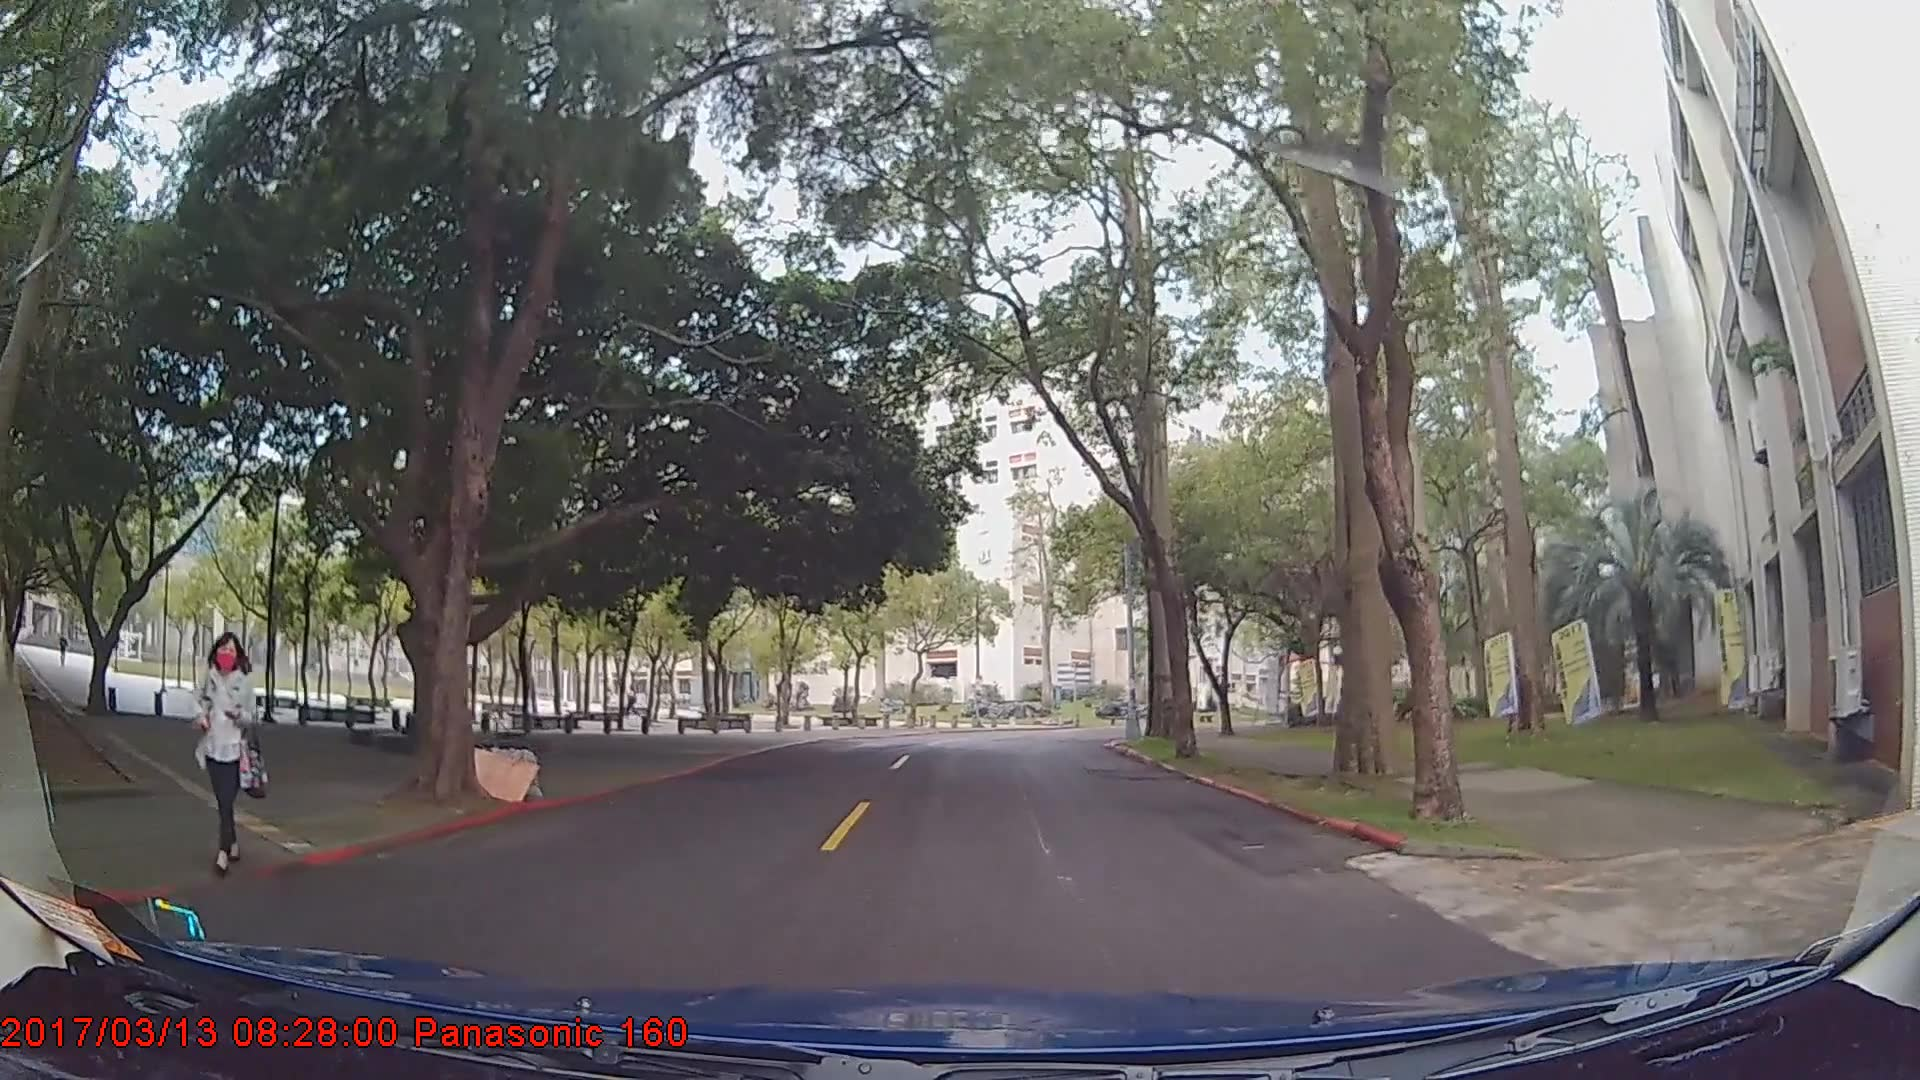pedestrian: (188, 627, 273, 874)
